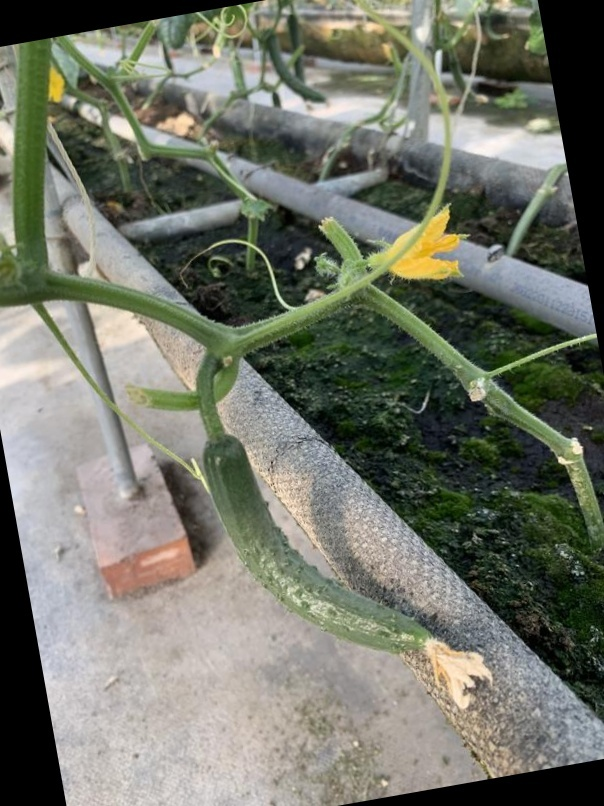growth: (199, 427, 480, 671)
